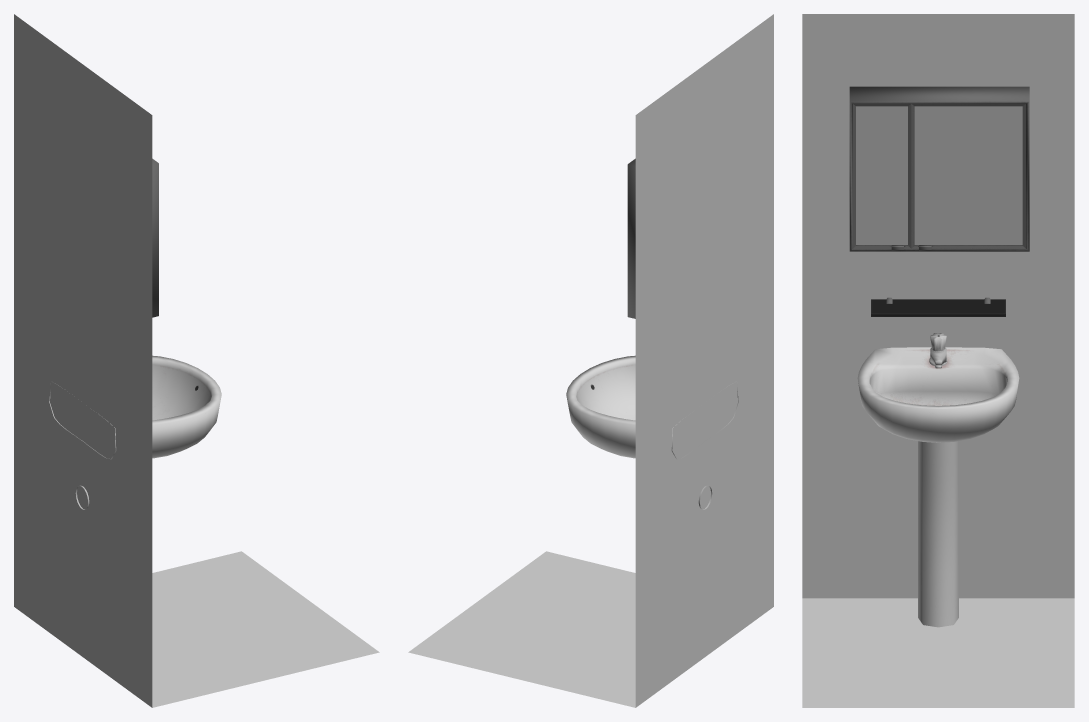
Rendered from sink_and_mirror.glb.
The picture shows the model from 3 angles, left to right: view 1: azimuth 30°, elevation 25°; view 2: azimuth 150°, elevation 25°; view 3: azimuth 270°, elevation 25°; orthographic projection.
Parts seen in each view (by area): view 1: chao-material, mat_pia_banheiro-material, espelho_base-material; view 2: chao-material, mat_pia_banheiro-material, espelho_base-material; view 3: chao-material, espelho_base-material (×4), mat_pia_banheiro-material (×2).
Part boxes in pixels (x1,y1,x2,y2): chao-material: (14, 14, 379, 707); mat_pia_banheiro-material: (49, 355, 221, 459); espelho_base-material: (152, 158, 158, 317); chao-material: (408, 14, 773, 707); mat_pia_banheiro-material: (566, 355, 738, 459); espelho_base-material: (627, 158, 635, 318); chao-material: (802, 14, 1074, 707); espelho_base-material (×4): (849, 86, 1029, 316); mat_pia_banheiro-material (×2): (857, 347, 1019, 627).
Bounding box in the file's own units: 0.7526 × 1.86 × 0.7871.
Materials: 3 (2 with a texture image).
